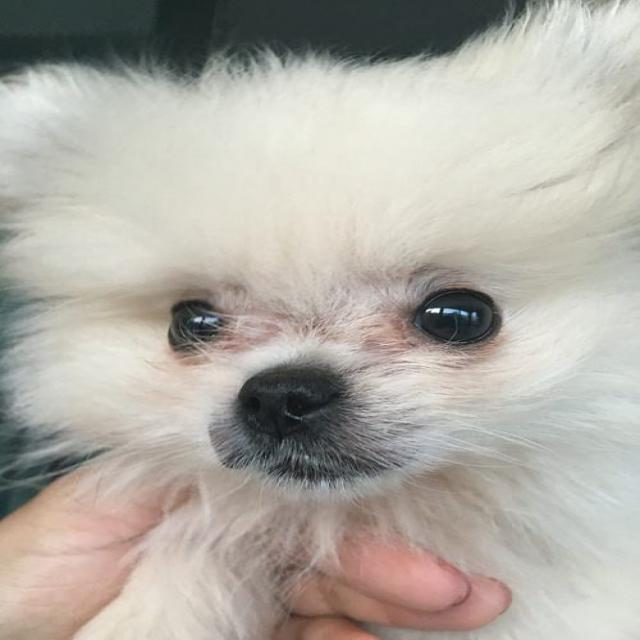eye: (407, 282, 508, 349), (162, 295, 232, 360)
